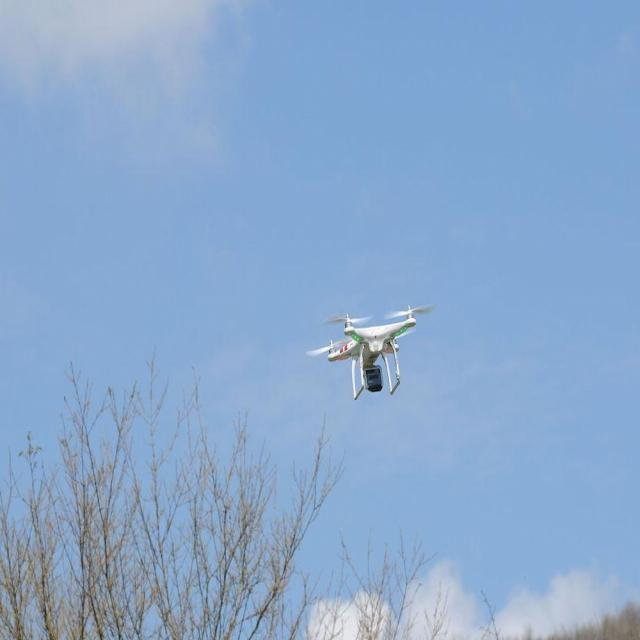UAV: (324, 302, 418, 406)
